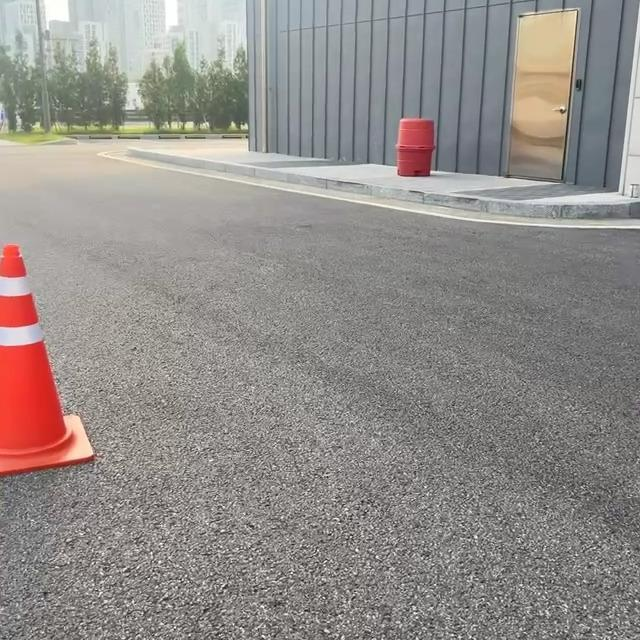fallen_object: (0, 198, 145, 487)
